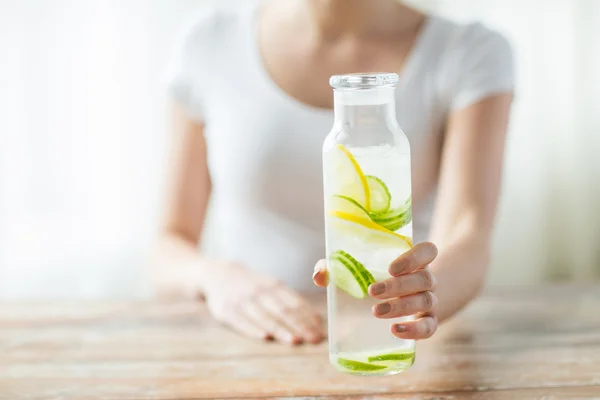glass_bottle: (302, 60, 433, 382)
